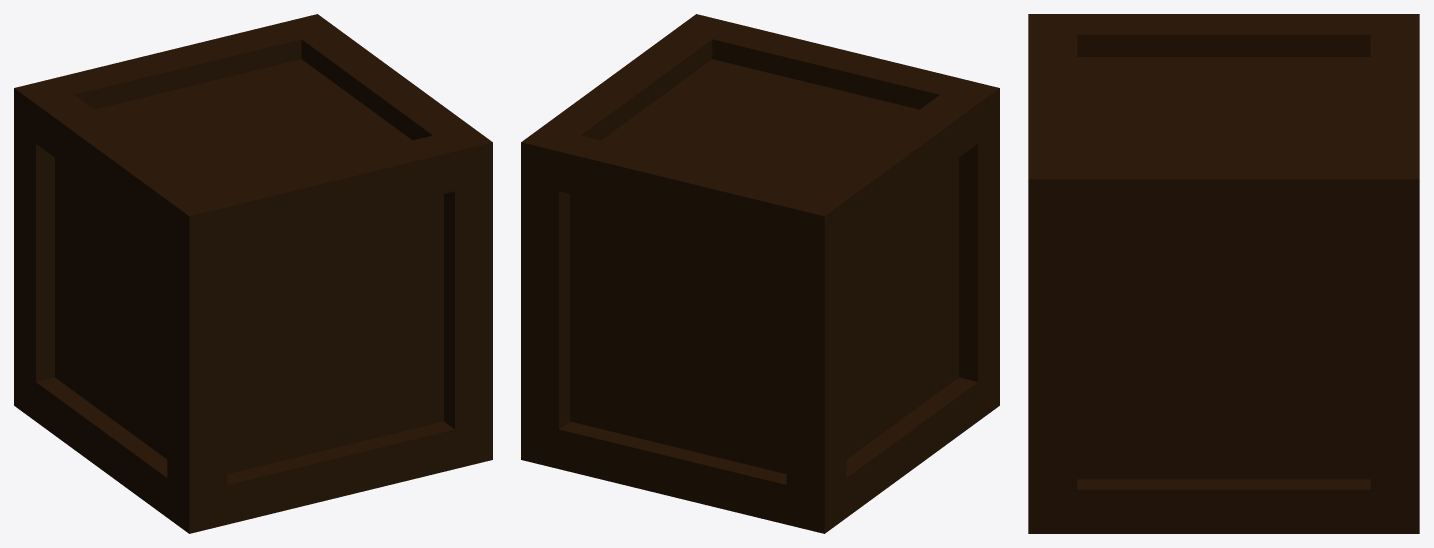
3 views of the same model, side by side, from view 1: azimuth 30°, elevation 25°; view 2: azimuth 150°, elevation 25°; view 3: azimuth 270°, elevation 25° (orthographic). The views are drawn at different scales.
Parts seen in each view (by area): view 1: Box019; view 2: Box019; view 3: Box019.
Boxes of the visible parts, x1,y1,x2,y2 form: Box019: (14,14,492,533); Box019: (521,14,999,533); Box019: (1028,14,1419,533).
Bounding box in the file's own units: 40 × 40 × 40.
